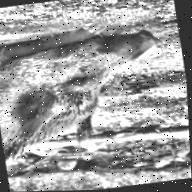boar: (0, 11, 182, 184)
